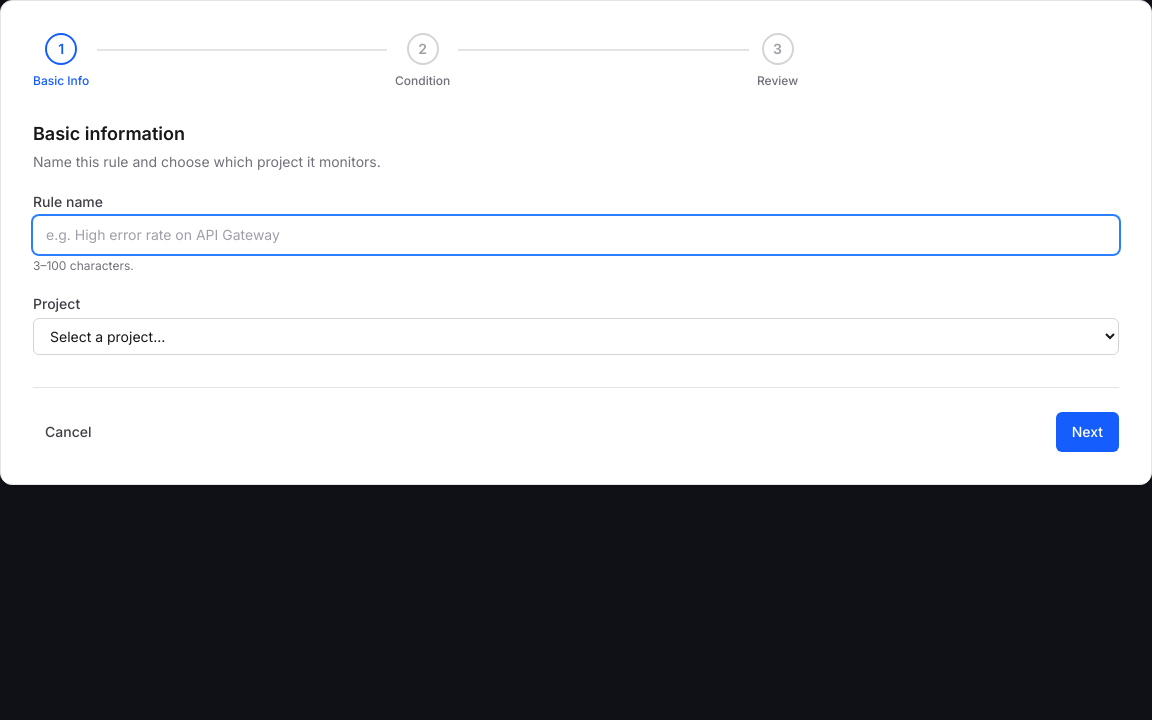
Test: AlertRuleBuilder — Step 1: Basic Info › advances to step 2 when both fields are valid
The width and height of the screenshot is (1152, 720).
Type "High error rate" into the field labelled "Rule name" at point(576, 235), box x1=33 y1=216 x2=1119 y2=254
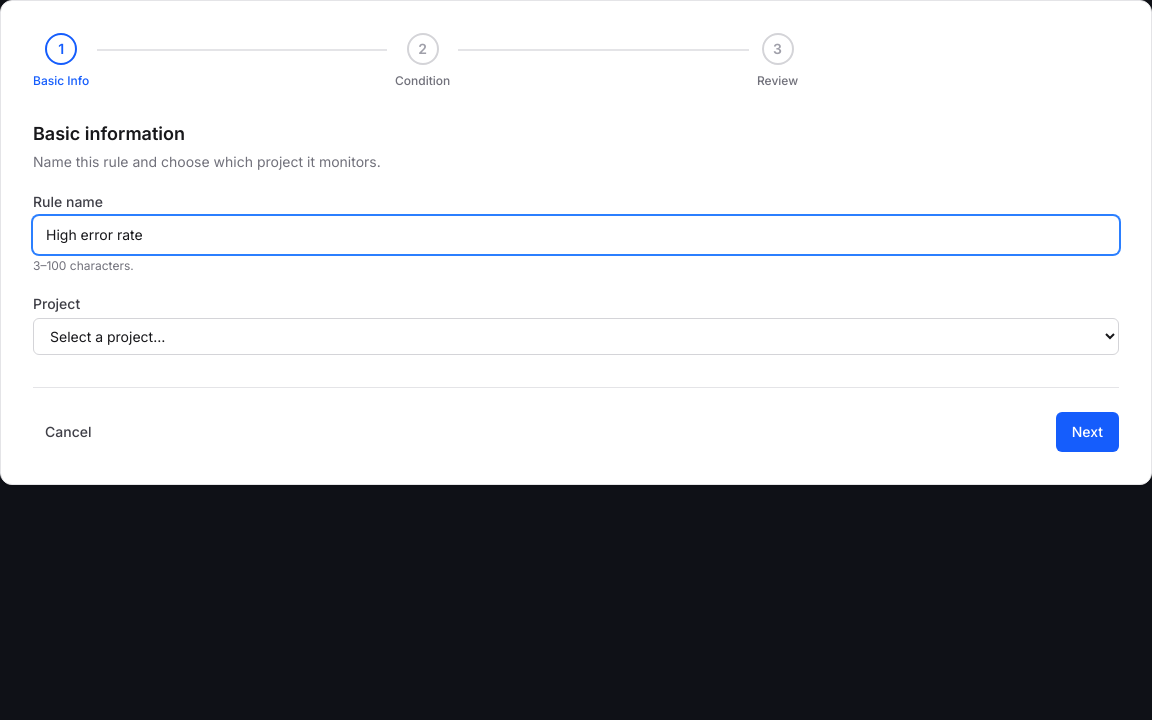
Select "API Gateway" in the dropdown labelled "Project" at point(576, 336), box x1=33 y1=318 x2=1119 y2=355
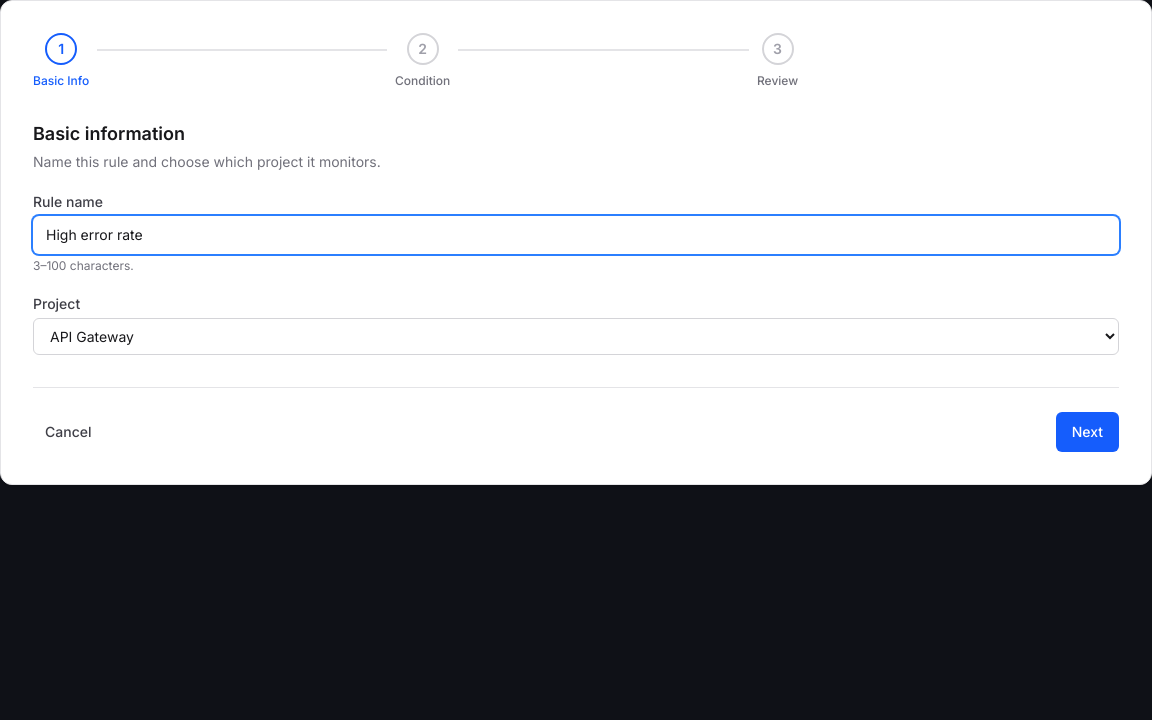
Click the button "Next" at point(1087, 432), box x1=1056 y1=412 x2=1119 y2=452
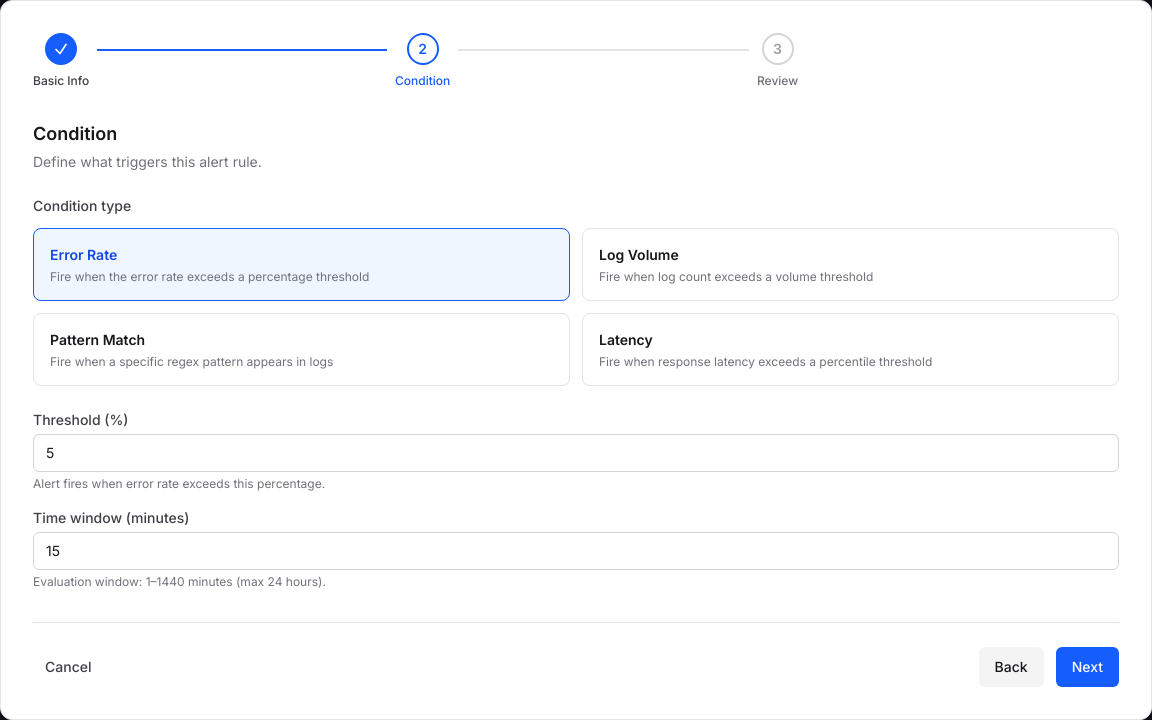
Expected: the text "Define what triggers this alert rule." is shown, x1=33 y1=153 x2=262 y2=170
Expected: the label "Rule name" is gone
